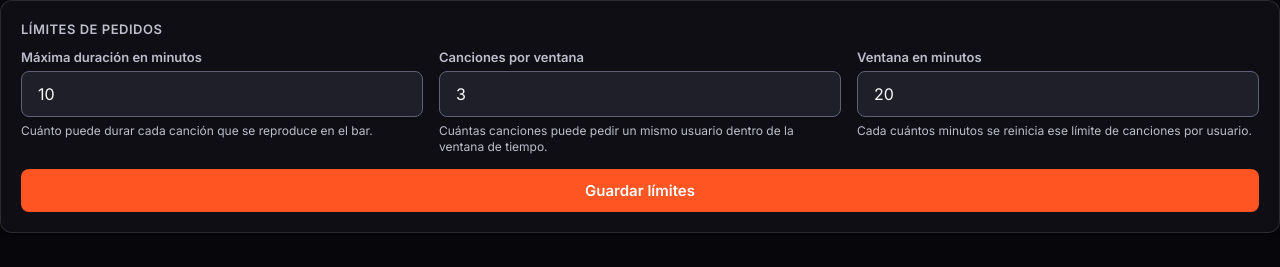
Scenario: VenueLimitsCard › shows validation errors without making a request
Replace the text in the number field labelled "Canciones por ventana" with "0": (640, 94) [439, 71, 841, 117]
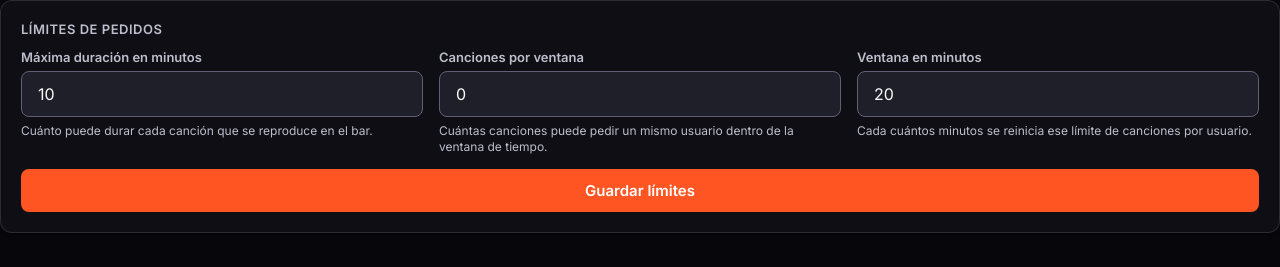
Click the button "Guardar límites": (640, 191) [21, 169, 1259, 212]
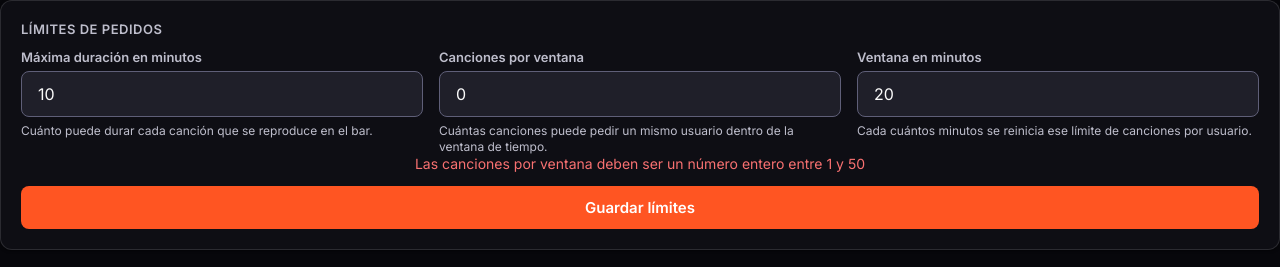
Now the text "deben ser un número entero entre 1 y 50" is shown, box [415, 155, 865, 172]
